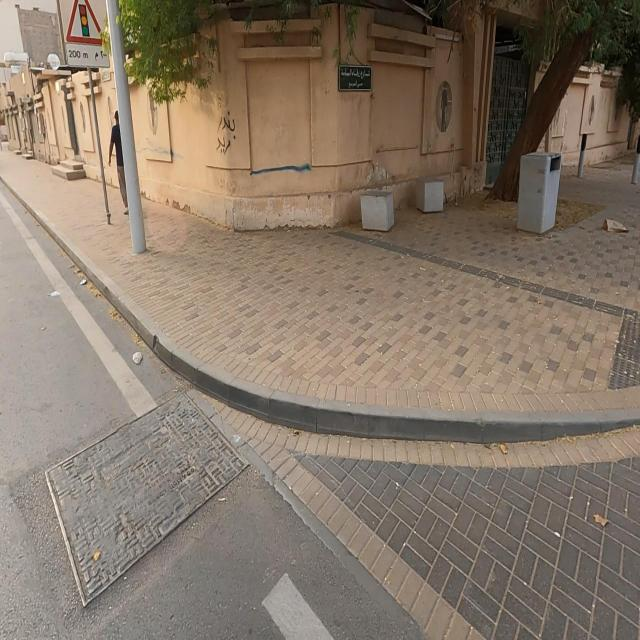Graffiti: (217, 112, 238, 156), (251, 165, 313, 177)
